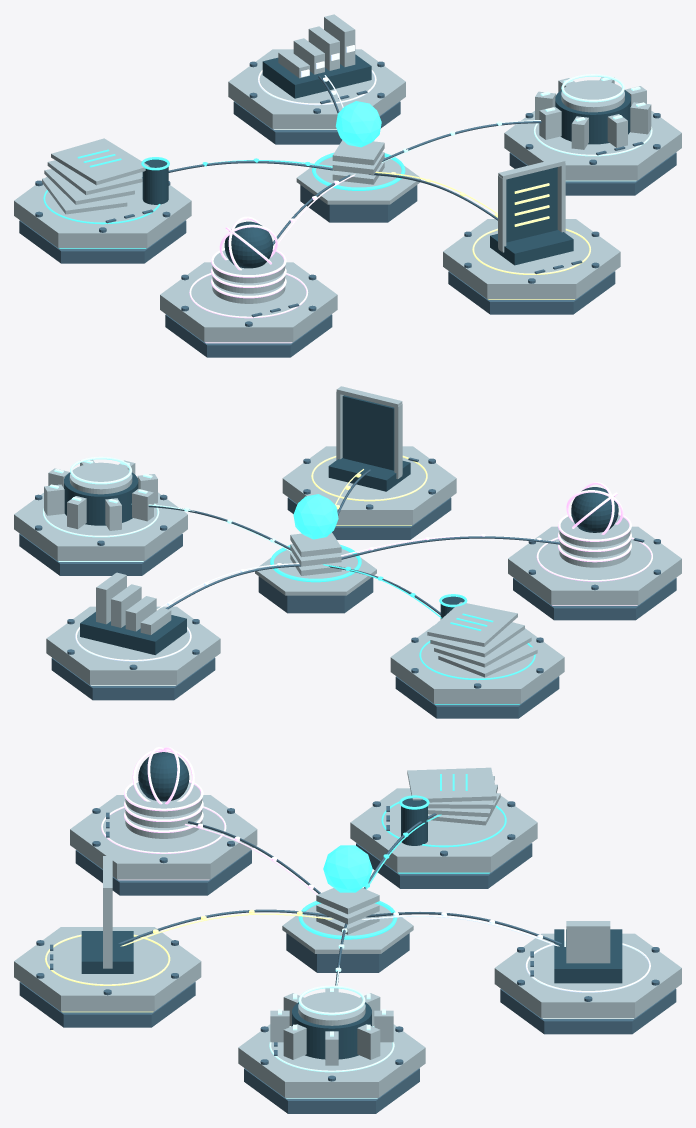
File: atlas.glb
3 views of the same model, one above another, from view 1: azimuth 30°, elevation 25°; view 2: azimuth 150°, elevation 25°; view 3: azimuth 270°, elevation 25° (orthographic). The views are drawn at different scales.
Visible parts, largest first — view 1: Island_4.002, Island_3.002, Island_0.002, Island_1.002, Island_2.002, Outcome surface, Project deck, Source document.003, Island_0, Island_4, Island_3, Plan console (+29 smaller); view 2: Island_4.002, Island_1.002, Island_3.002, Island_0.002, Island_2.002, Outcome surface, Project deck, Source document.003, Island_0, Island_1, Island_4, Plan console (+27 smaller); view 3: Island_3.002, Island_1.002, Island_4.002, Island_0.002, Island_2.002, Project deck, Island_3, Island_1, Source document.003, Island_2, Island_4, Island_0 (+23 smaller).
Part boxes in pixels (box(x1,y1,x2,y2)): Island_4.002: box(160, 262, 337, 342); Island_3.002: box(443, 219, 620, 299); Island_0.002: box(14, 172, 191, 248); Island_1.002: box(228, 49, 405, 129); Island_2.002: box(504, 111, 681, 180); Outcome surface: box(506, 167, 557, 242); Project deck: box(296, 157, 420, 204); Source document.003: box(51, 138, 149, 185); Island_0: box(19, 220, 186, 263); Island_4: box(165, 314, 332, 357); Island_3: box(448, 271, 615, 314); Plan console: box(262, 54, 371, 98); Island_4.002: box(508, 526, 681, 605); Island_1.002: box(46, 606, 220, 685); Island_3.002: box(282, 446, 456, 524); Island_0.002: box(390, 625, 564, 703); Island_2.002: box(14, 492, 187, 560); Outcome surface: box(342, 395, 394, 470); Project deck: box(255, 549, 376, 595); Source document.003: box(427, 602, 517, 646); Island_0: box(395, 676, 559, 718); Island_1: box(51, 657, 215, 700); Island_4: box(513, 578, 676, 620); Plan console: box(80, 612, 186, 654); Island_3.002: box(14, 927, 201, 1011); Island_1.002: box(494, 933, 681, 1018); Island_4.002: box(70, 795, 257, 879); Island_0.002: box(350, 788, 537, 872); Island_2.002: box(238, 1024, 425, 1097); Project deck: box(282, 904, 413, 953); Island_3: box(19, 982, 195, 1027); Island_1: box(500, 988, 676, 1034); Source document.003: box(407, 767, 496, 802); Island_2: box(244, 1068, 419, 1113); Island_4: box(75, 850, 251, 895); Island_0: box(356, 843, 532, 888).
Size of the model in its own units: 8.69 by 1.7 by 8.34.
